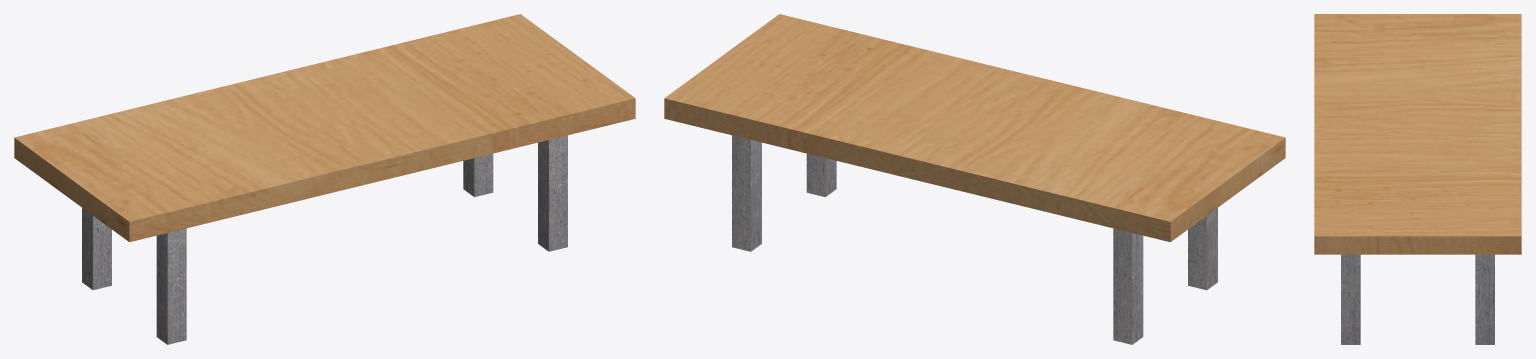
The model's file is table00.obj.
3 renders of one model, left to right at view 1: azimuth 30°, elevation 25°; view 2: azimuth 150°, elevation 25°; view 3: azimuth 270°, elevation 25°, orthographic. The views are drawn at different scales.
Parts seen in each view (by area): view 1: table pCube1, pCube5 table, table pCube4, table pCube2, table pCube3; view 2: table pCube1, table pCube2, table pCube3, pCube5 table, table pCube4; view 3: table pCube1, table pCube4, table pCube3.
Boxes of the visible parts, x1,y1,x2,y2 form: table pCube1: [14, 14, 635, 242]; pCube5 table: [156, 228, 186, 344]; table pCube4: [538, 135, 567, 251]; table pCube2: [82, 208, 111, 290]; table pCube3: [463, 153, 493, 197]; table pCube1: [664, 14, 1285, 242]; table pCube2: [1113, 228, 1143, 344]; table pCube3: [732, 135, 761, 251]; pCube5 table: [1188, 208, 1217, 290]; table pCube4: [806, 153, 836, 197]; table pCube1: [1314, 14, 1521, 254]; table pCube4: [1341, 254, 1360, 344]; table pCube3: [1475, 254, 1494, 344].
Size of the model in its own units: 8.94 by 2.48 by 3.52.
2 materials, 2 textured.
